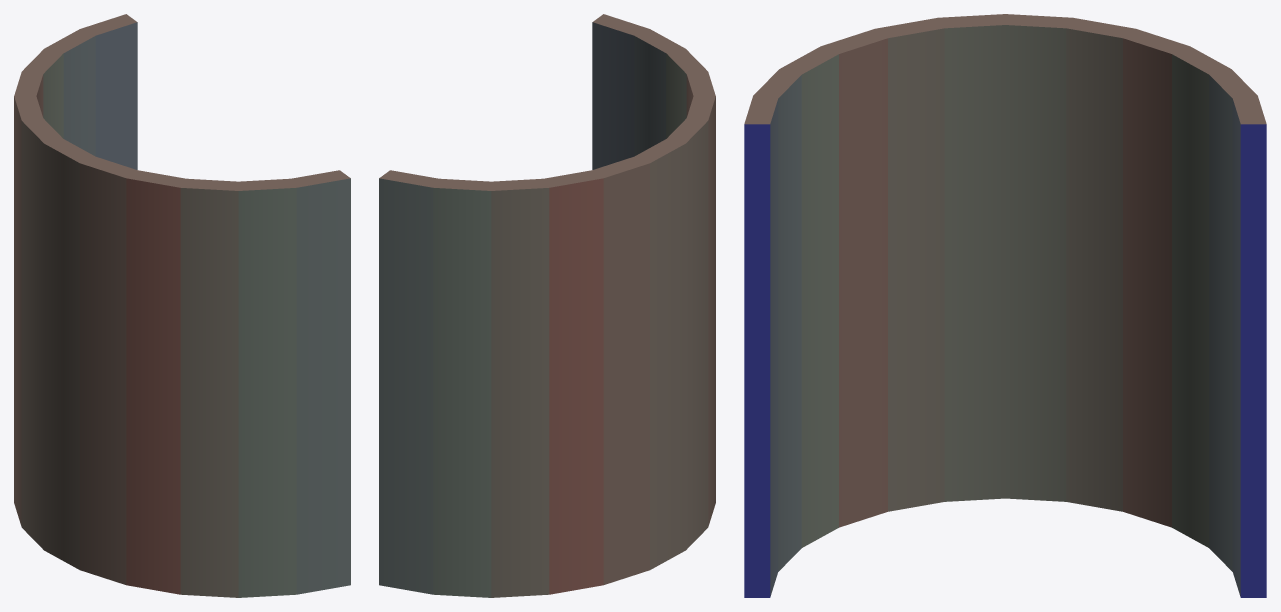
The model's file is Tube_half.fbx.
The picture shows the model from 3 angles, left to right: view 1: azimuth 30°, elevation 25°; view 2: azimuth 150°, elevation 25°; view 3: azimuth 270°, elevation 25°; orthographic projection. The views are drawn at different scales.
Visible parts, largest first — view 1: Mesh; view 2: Mesh; view 3: Mesh.
Boxes of the visible parts, bbox=[...] form: Mesh: bbox=[14, 14, 350, 597]; Mesh: bbox=[379, 14, 715, 597]; Mesh: bbox=[744, 14, 1266, 597].
Bounding box in the file's own units: 50 × 100 × 100.
